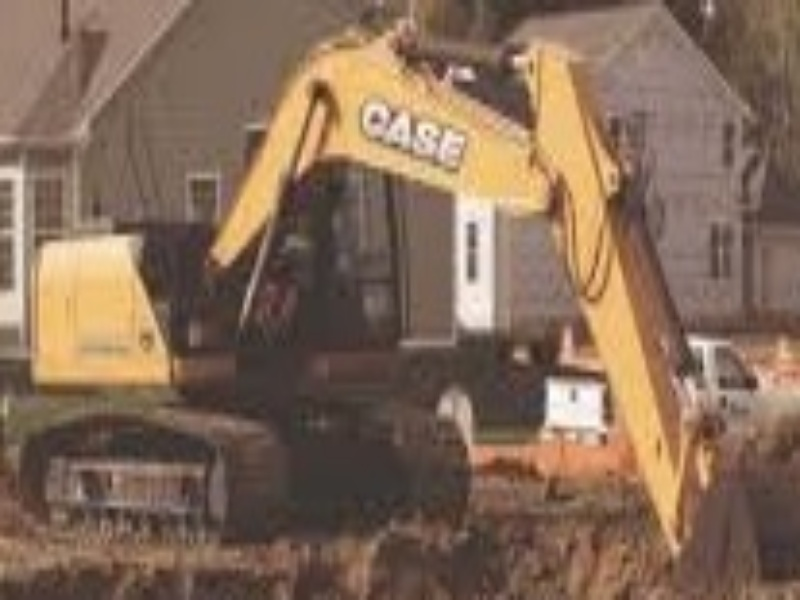wajueji: (19, 68, 544, 551)
